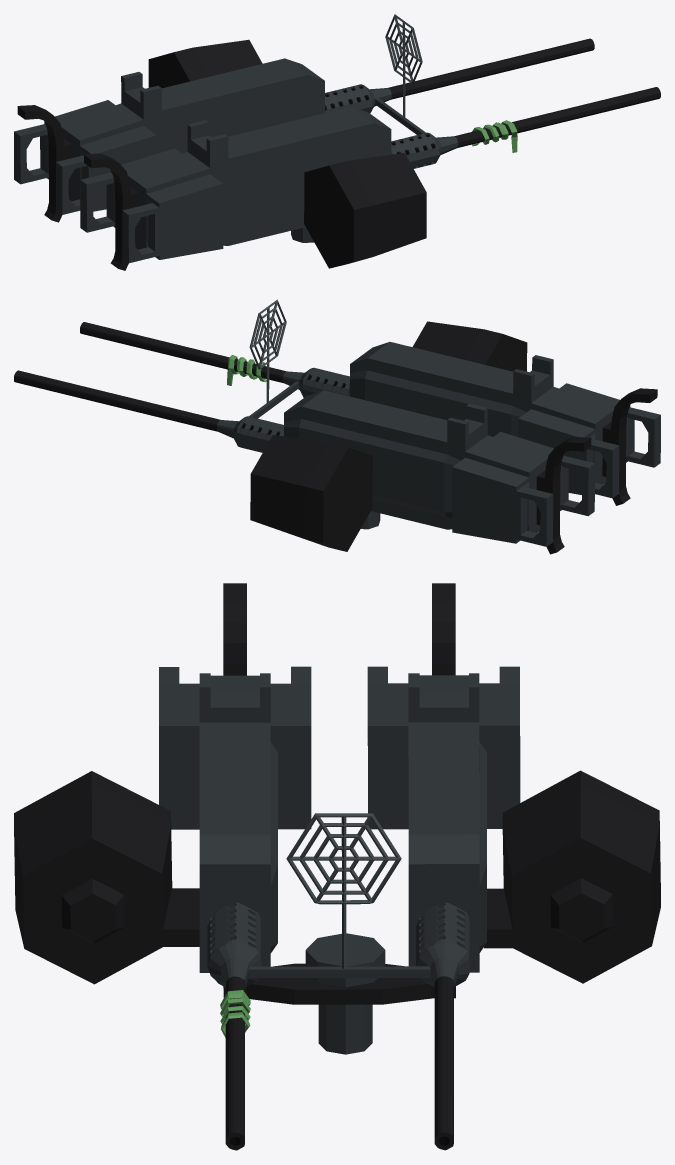
File: SM_Gunmachine_01.fbx
3 renders of one model, top to bottom at view 1: azimuth 30°, elevation 25°; view 2: azimuth 150°, elevation 25°; view 3: azimuth 270°, elevation 25°, orthographic. The views are drawn at different scales.
Parts seen in each view (by area): view 1: SM_Gunmachine_01; view 2: SM_Gunmachine_01; view 3: SM_Gunmachine_01.
Part boxes in pixels (x1,y1,x2,y2): SM_Gunmachine_01: (14, 14, 660, 270); SM_Gunmachine_01: (14, 299, 660, 554); SM_Gunmachine_01: (14, 583, 660, 1150).
Size of the model in its own units: 96.34 by 31.05 by 59.94.
